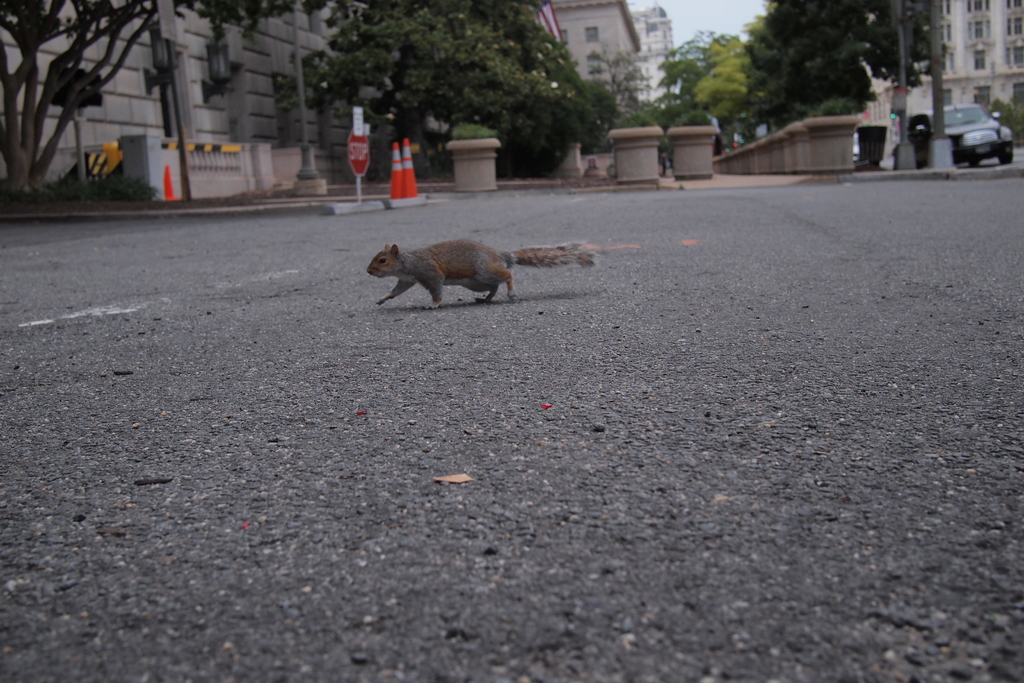Animal: (364, 236, 600, 312)
